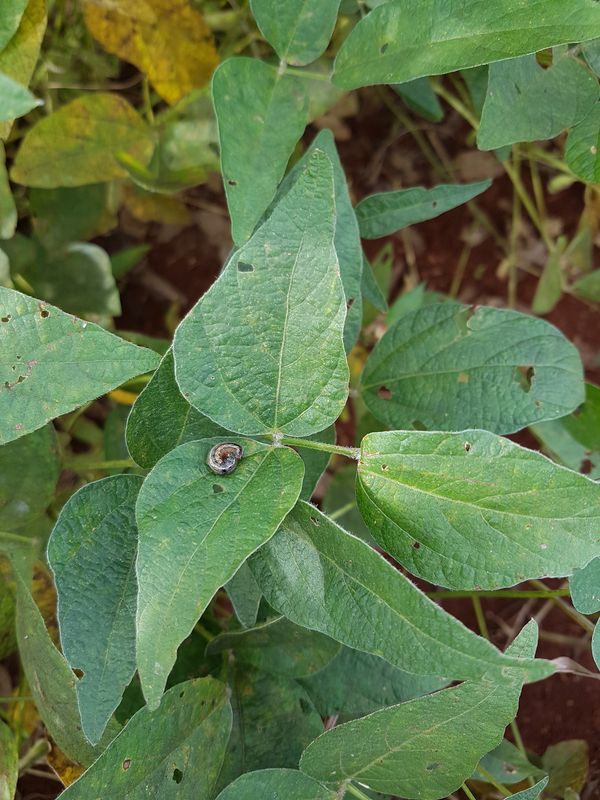Spodoptera_albula: (200, 436, 248, 482)
